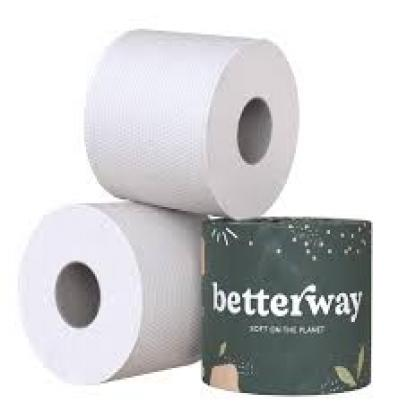tissue: (75, 25, 314, 219)
